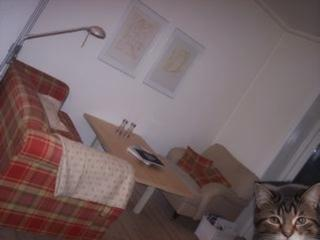cat: (253, 181, 320, 240)
sofa: (1, 60, 137, 240), (161, 143, 261, 228)
